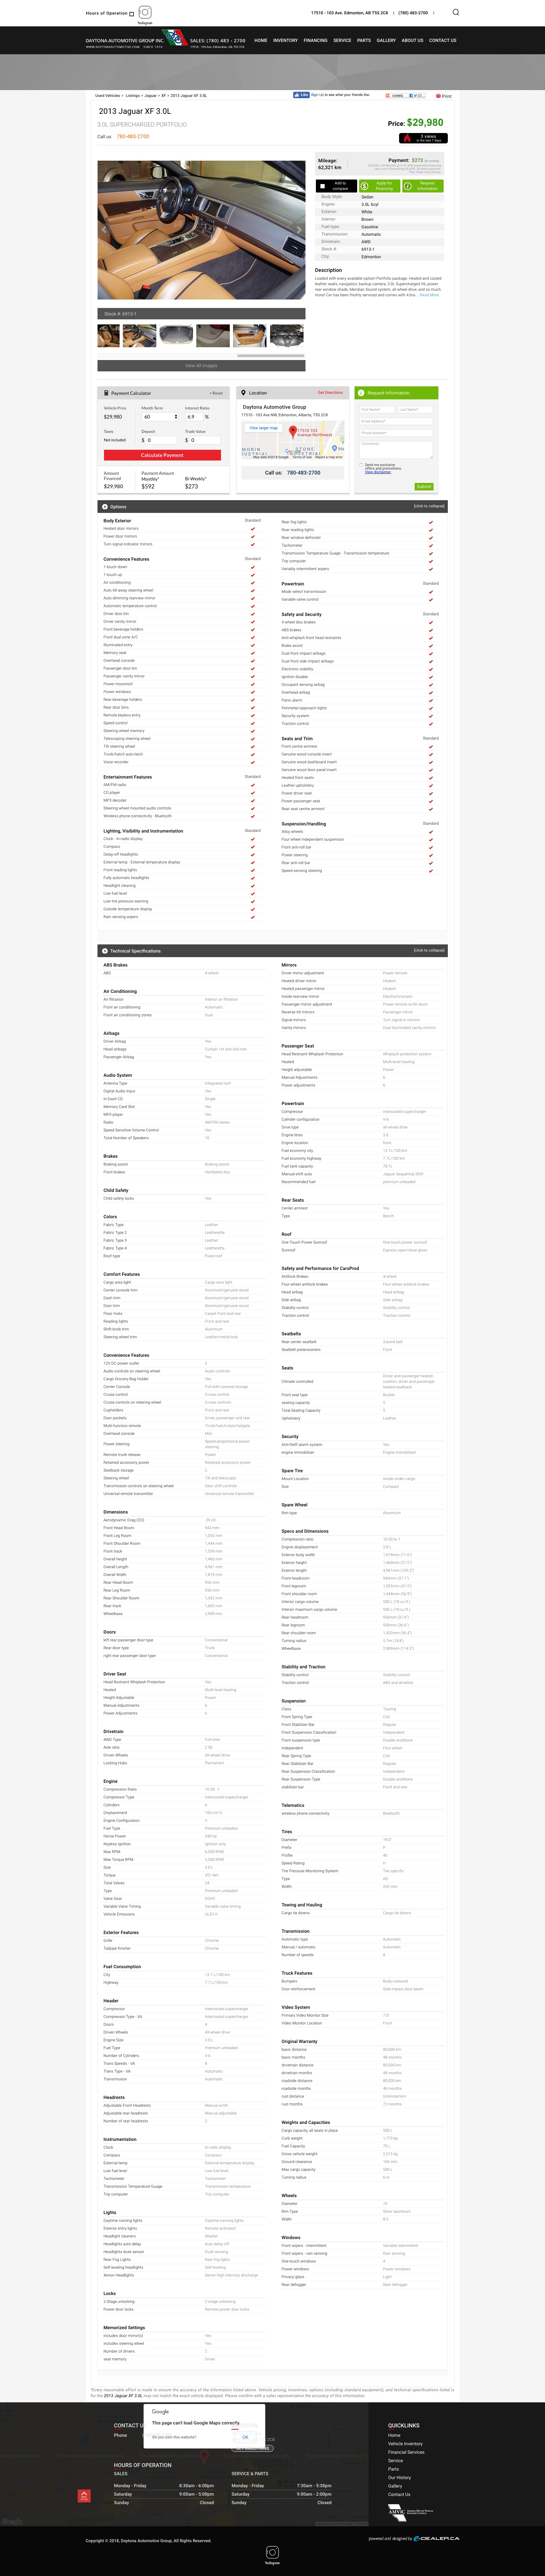car: (291, 223, 307, 238)
